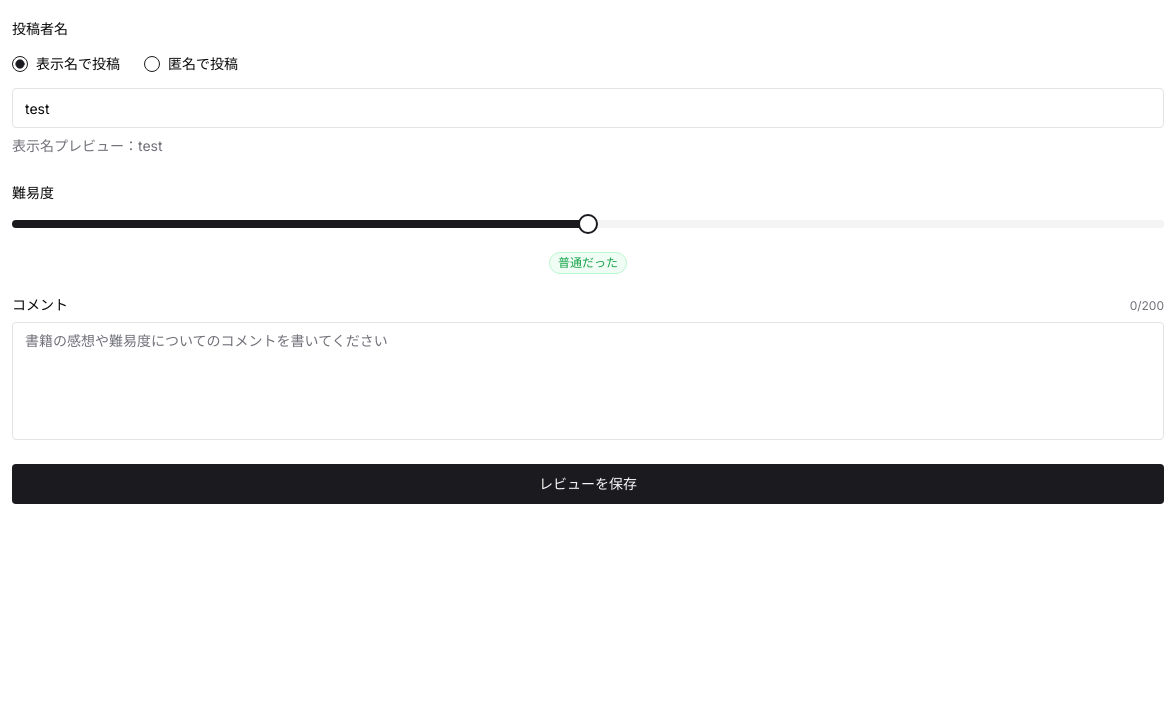
Test: ReviewModal › ユーザーが投稿タイプを切り替えられる
The width and height of the screenshot is (1176, 720).
Expected: the text "表示名プレビュー：test" is shown, [12, 137, 163, 154]
Expected: the radio button named "表示名で投稿" next to "表示名で投稿" is checked, [12, 56, 28, 72]
Note:  匿名に切り替え
Click the radio button named "匿名で投稿" next to "匿名で投稿" at (152, 64), box [144, 56, 160, 72]
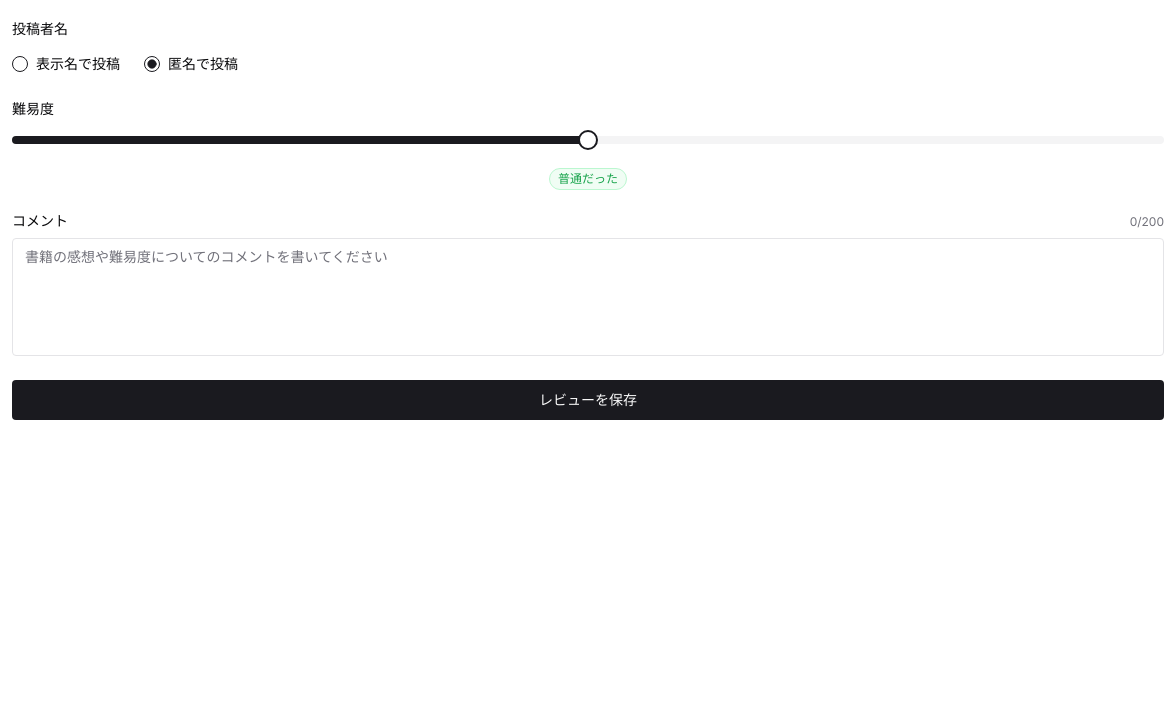
Expected: the radio button named "匿名で投稿" next to "匿名で投稿" is checked, [144, 56, 160, 72]
Expected: the radio button named "表示名で投稿" next to "表示名で投稿" is not checked, [12, 56, 28, 72]
